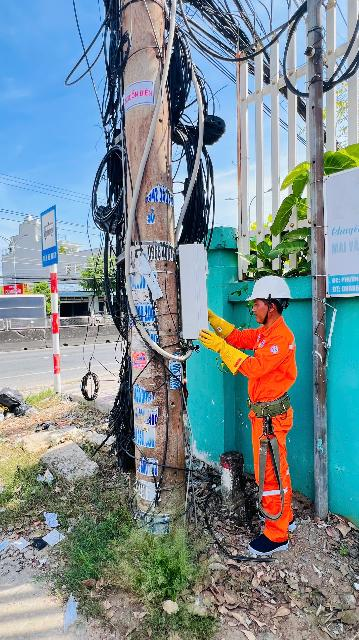gloves: (199, 324, 253, 377), (197, 302, 237, 338)
harness: (245, 388, 296, 424)
helmet: (241, 277, 302, 302)
shoes: (239, 525, 301, 559), (253, 506, 312, 532)
